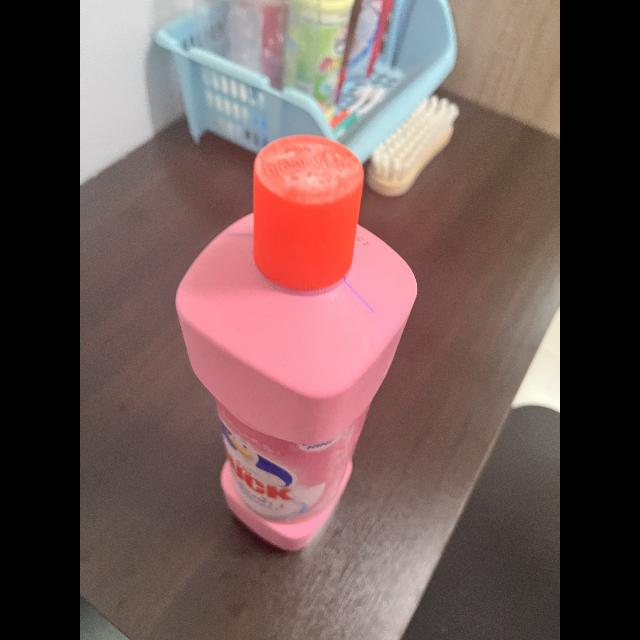chemical_plastic_bottle: (176, 127, 418, 553)
